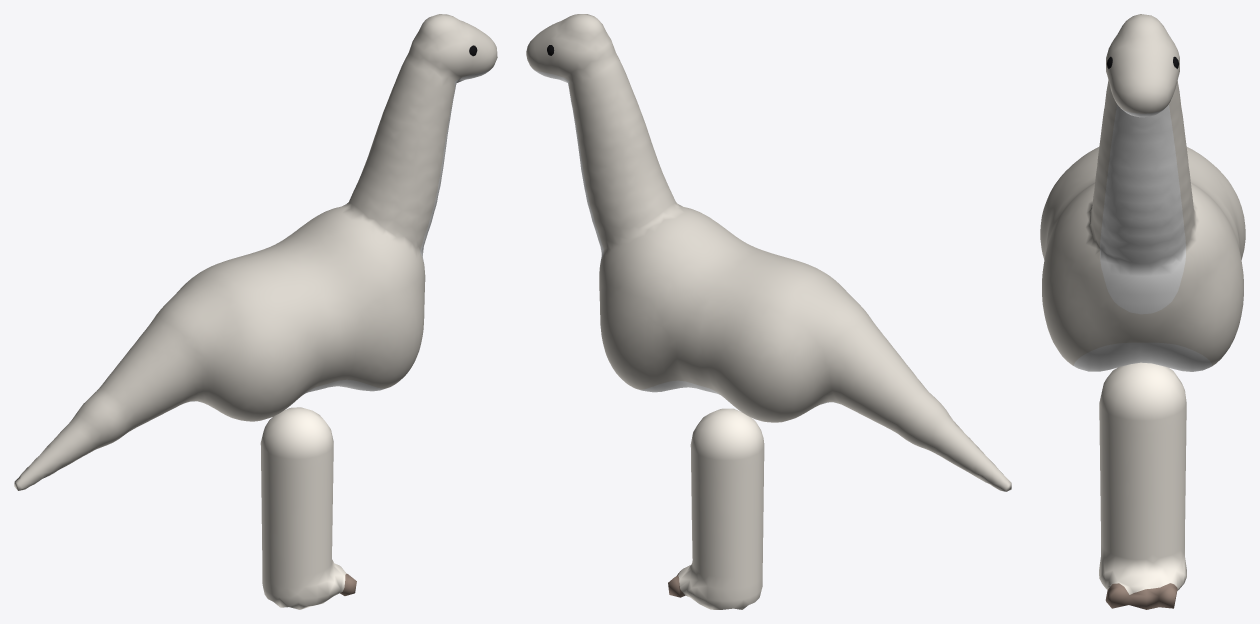
The model's file is brachiosaurus_adult.glb.
3 renders of one model, left to right at view 1: azimuth 30°, elevation 25°; view 2: azimuth 150°, elevation 25°; view 3: azimuth 270°, elevation 25°, orthographic. The views are drawn at different scales.
Parts seen in each view (by area): view 1: body, leg; view 2: body, leg; view 3: body, leg.
Boxes of the visible parts, x1,y1,x2,y2 form: body: [14, 14, 497, 490]; leg: [260, 407, 356, 609]; body: [526, 14, 1011, 491]; leg: [668, 408, 764, 609]; body: [1040, 14, 1245, 371]; leg: [1099, 362, 1186, 609].
Bounding box in the file's own units: 4.21 × 4.61 × 1.31.
